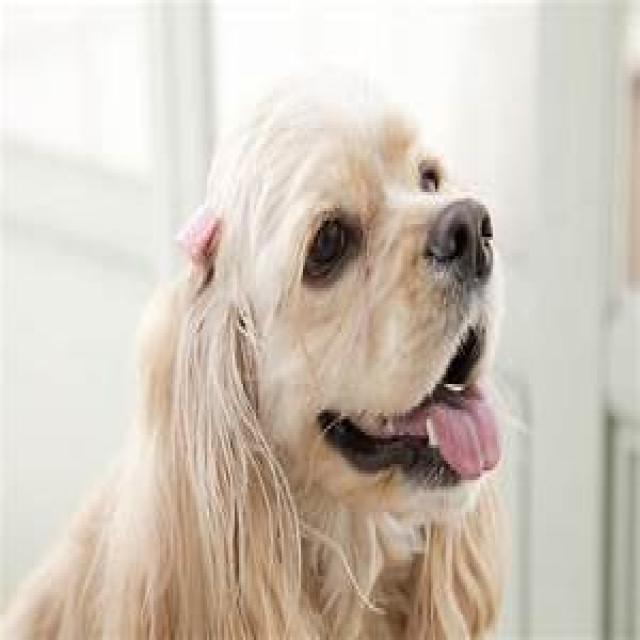animal: (0, 74, 525, 636)
